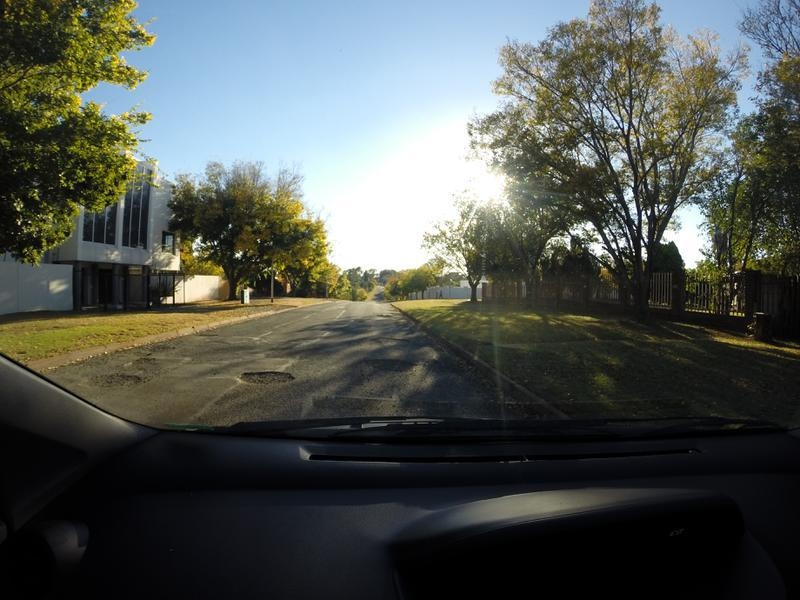pothole: (232, 360, 294, 397), (342, 353, 415, 376), (88, 370, 145, 393), (363, 328, 412, 351)
